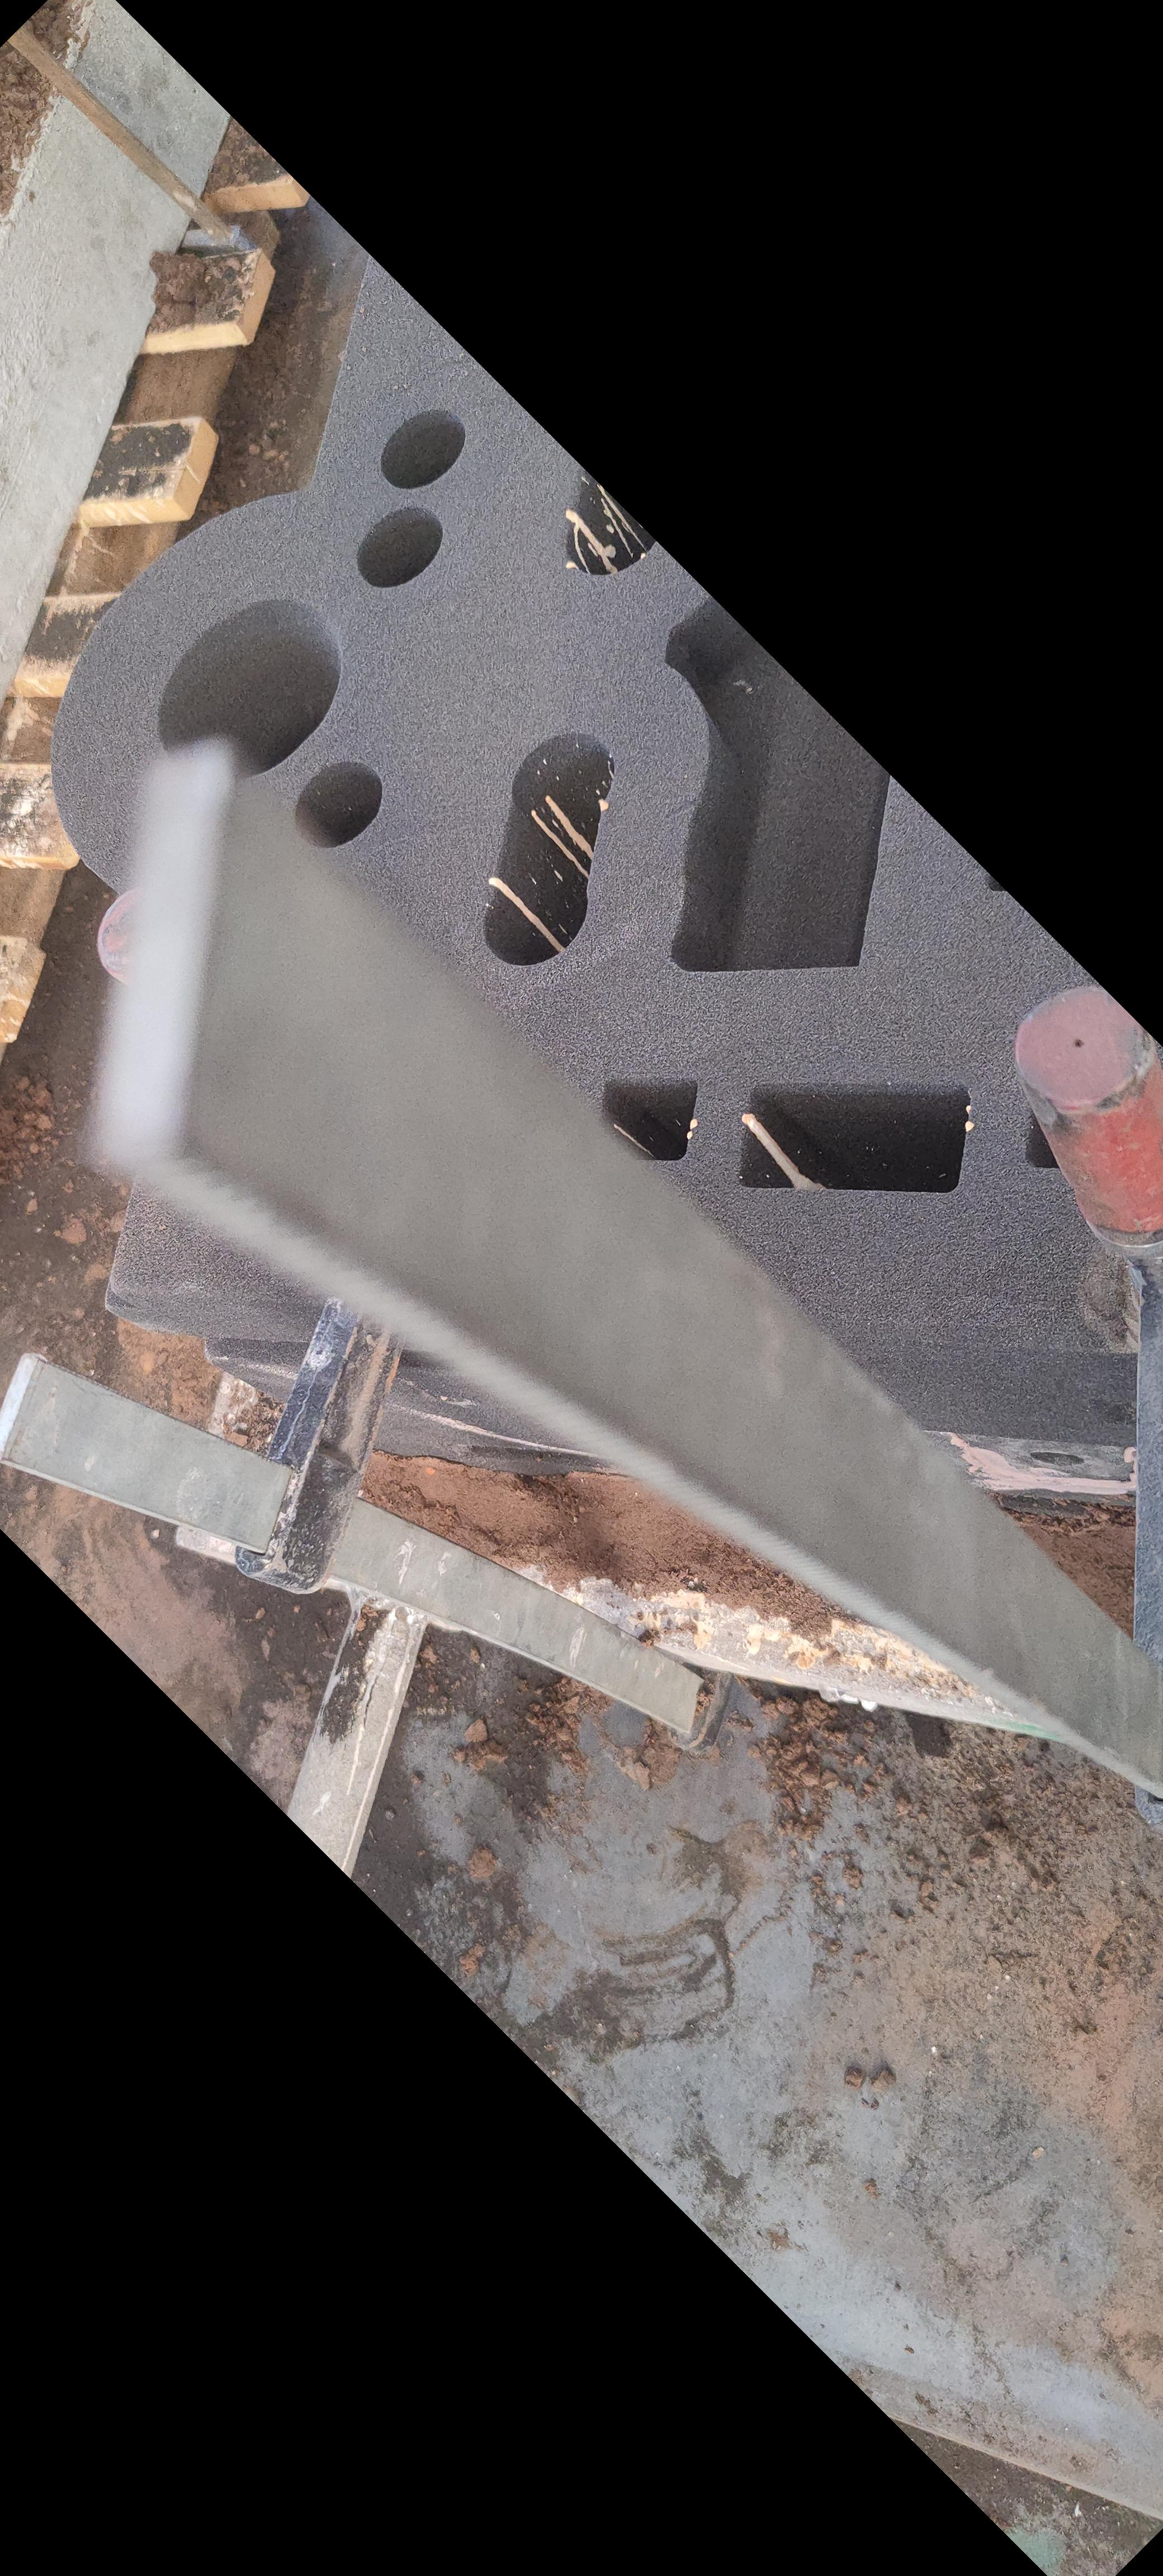pouring hole: (159, 601, 338, 775)
